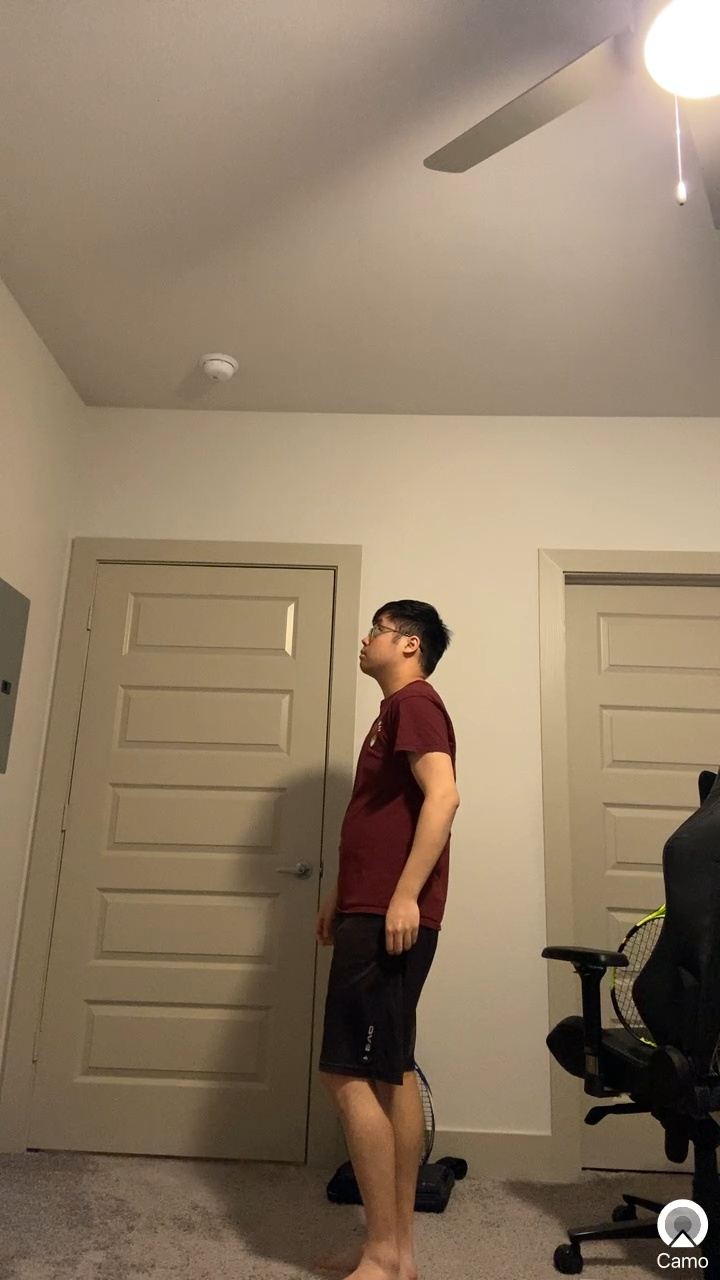Person: (317, 585, 472, 1280)
